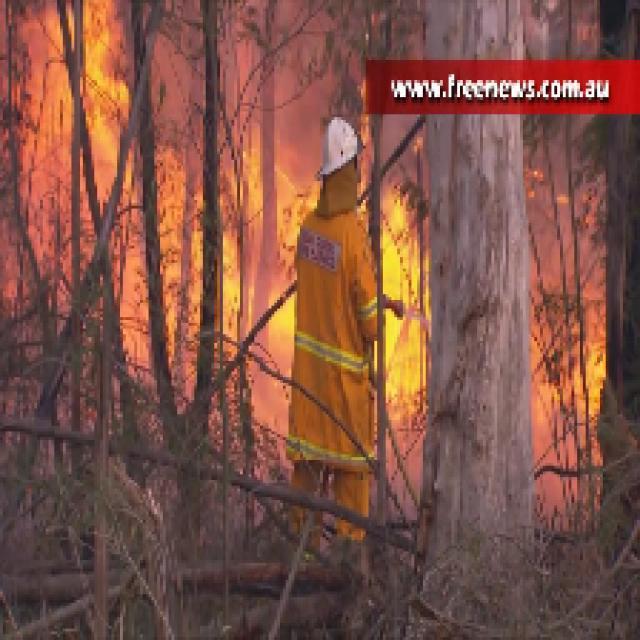Fire: (130, 153, 291, 360), (22, 1, 125, 230), (369, 200, 445, 412)
